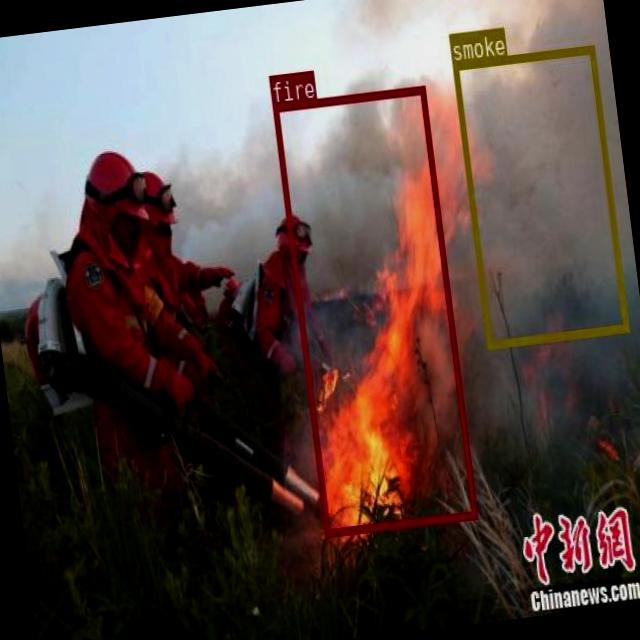fire: (271, 84, 476, 535)
smoke: (452, 44, 628, 348)
